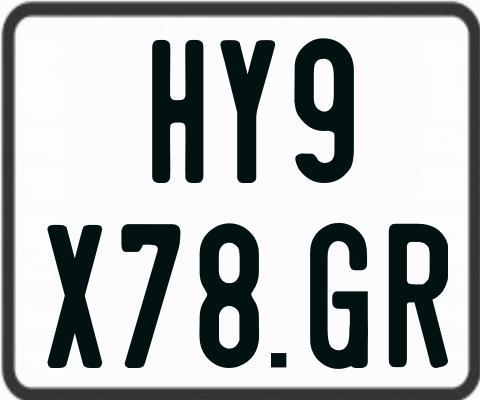7: (118, 221, 183, 370)
8: (198, 221, 261, 369)
9: (294, 35, 355, 184)
G: (307, 220, 369, 372)
H: (150, 37, 202, 182)
R: (388, 221, 449, 366)
X: (46, 223, 100, 372)
Y: (220, 37, 279, 183)
